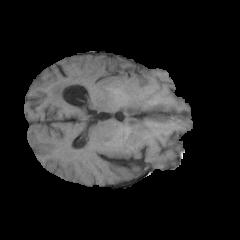glioma: (51, 56, 160, 110)
